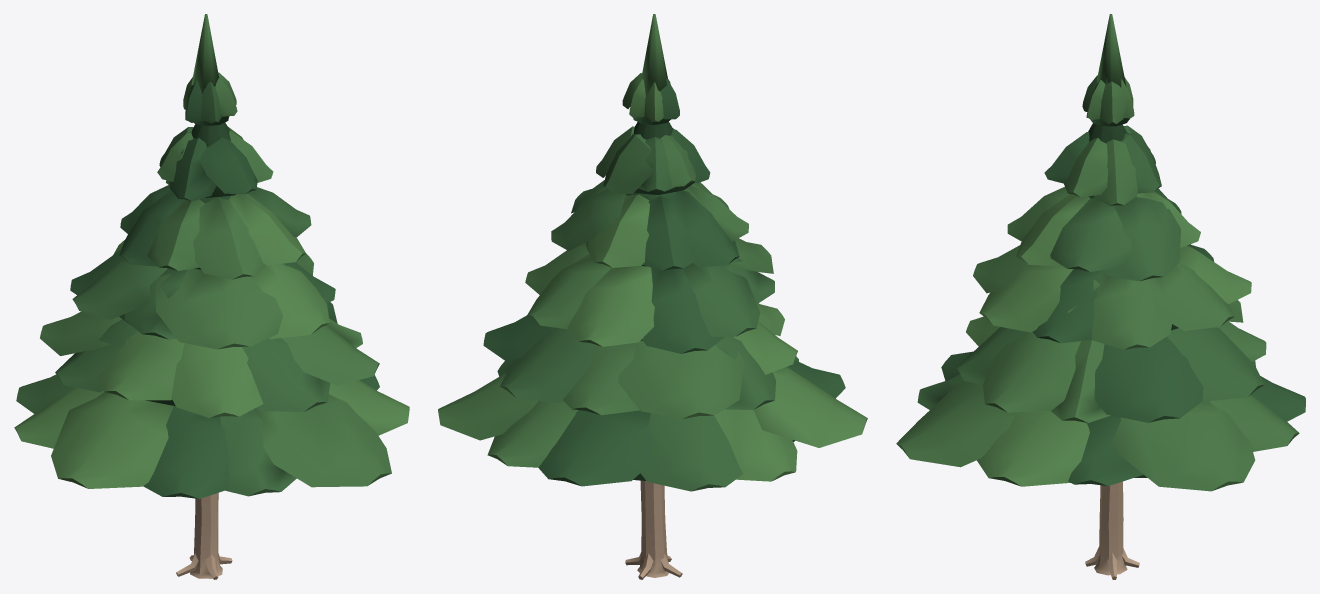
File: pine.glb
3 views of the same model, side by side, from view 1: azimuth 30°, elevation 25°; view 2: azimuth 150°, elevation 25°; view 3: azimuth 270°, elevation 25° (orthographic).
Visible parts, largest first — view 1: pine; view 2: pine; view 3: pine.
Boxes of the visible parts, x1,y1,x2,y2 form: pine: (14, 14, 409, 579); pine: (438, 14, 867, 579); pine: (896, 14, 1305, 579).
Bounding box in the file's own units: 5.94 × 9.21 × 6.17.
